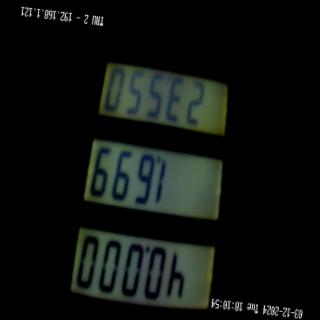screen: (59, 22, 244, 320)
